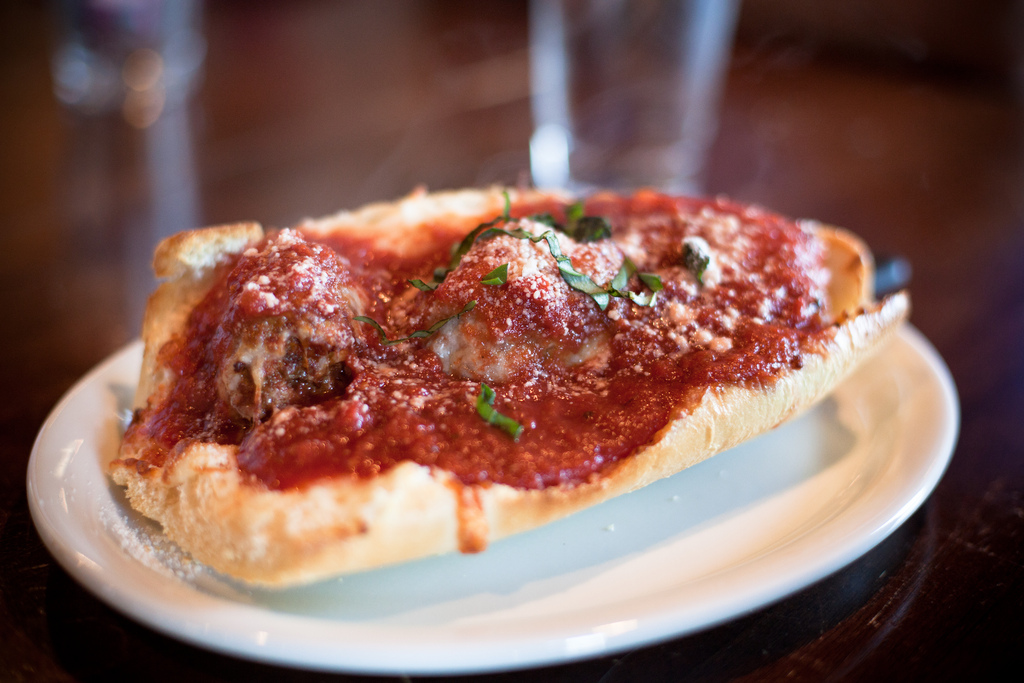meatballs: (207, 242, 361, 415), (454, 225, 605, 353)
slice of bread: (136, 234, 332, 604), (690, 302, 929, 481)
